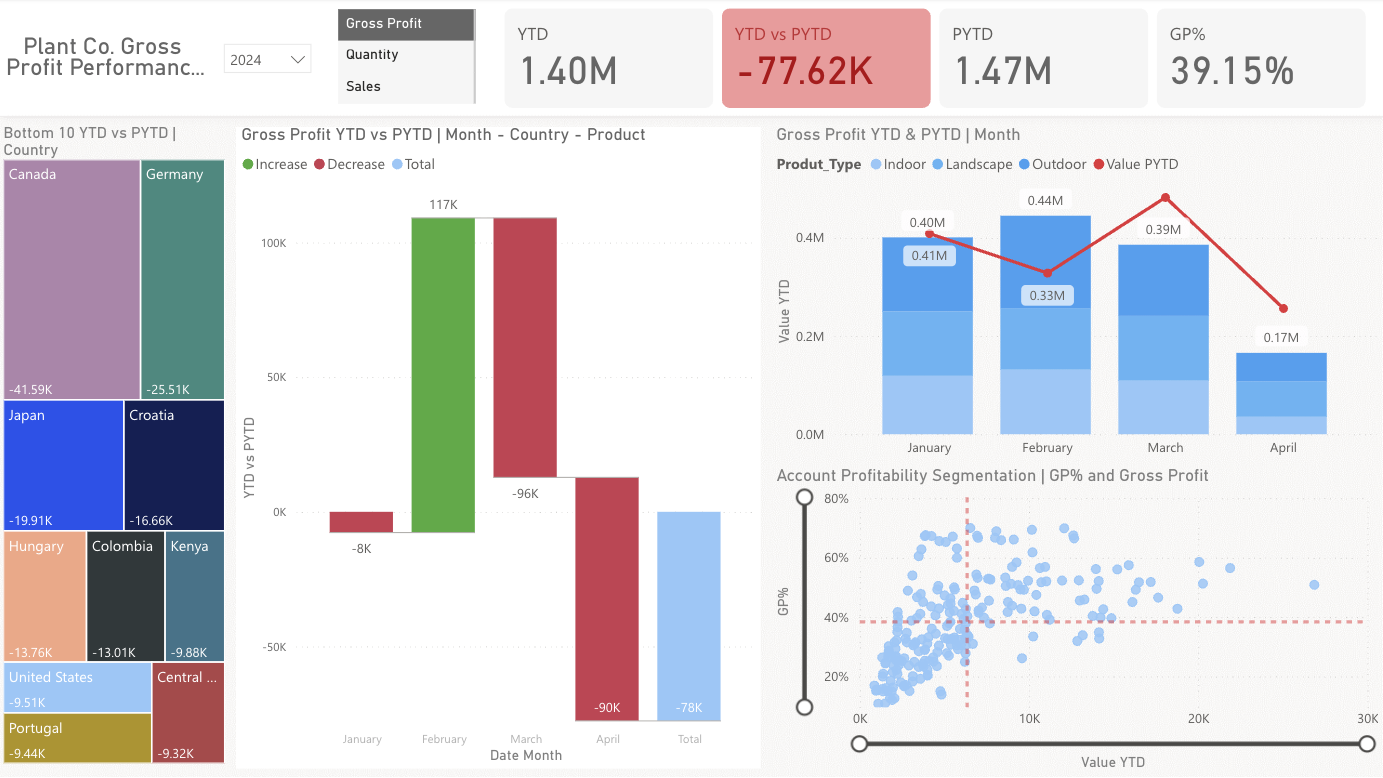

Layout of this report page (visuals, bound fields, positions):
{"tool":"powerbi","page":{"name":"Performance Report","canvas":[1280,720],"ordinal":0},"visuals":[{"type":"cardVisual","fields":{"Data":["_Measures.S_YTD","_Measures.YTD vs PYTD","_Measures.S_PYTD","_Measures.GP%"]},"box":[463,4.2,806.2,102.1],"z":0},{"type":"advancedSlicerVisual","fields":{"Values":["Slc_Values.Values"]},"box":[309.8,5.9,137.3,98],"z":1000},{"type":"slicer","fields":{"Values":["Dim_Date.Date.Variation.Date Hierarchy.Year"]},"box":[198.4,32.7,101.3,50.2],"z":2000},{"type":"treemap","title":"Bottom 10 YTD vs PYTD | Country","fields":{"Values":["_Measures.YTD vs PYTD"],"Group":["Dim_Account.country"]},"box":[0,118.7,214.6,594.4],"z":3000},{"type":"waterfallChart","fields":{"Y":["_Measures.YTD vs PYTD"],"Category":["Dim_Date.Date.Variation.Date Hierarchy.Month","Dim_Account.country","Dim_Product.Produt_Type","Dim_Product.Product_Name"]},"box":[220.3,119.6,485.2,593.5],"z":4000},{"type":"lineStackedColumnComboChart","fields":{"Y":["_Measures.S_YTD"],"Y2":["_Measures.S_PYTD"],"Category":["Dim_Date.Date.Variation.Date Hierarchy.Quarter","Dim_Date.Date.Variation.Date Hierarchy.Month"],"Series":["Dim_Product.Produt_Type"]},"box":[714.1,119.6,565.9,314.3],"z":5000},{"type":"scatterChart","fields":{"Y":["_Measures.GP%"],"X":["_Measures.S_YTD"],"Category":["Dim_Account.Account"]},"box":[714.1,433.9,565.9,285.8],"z":6000},{"type":"card","fields":{"Values":["_Measures._Report title"]},"box":[0,20.9,198.5,68.4],"z":7000}]}

Visuals, with their boxes in screenshot pixels (x1, y1, x2, y2), scaled from the page's 1280x720 canvas onto the 1383x778 screenshot:
cardVisual - _Measures.S_YTD x _Measures.YTD vs PYTD: {"x1": 500, "y1": 5, "x2": 1371, "y2": 115}
advancedSlicerVisual - Slc_Values.Values: {"x1": 335, "y1": 6, "x2": 483, "y2": 112}
slicer - Dim_Date.Date.Variation.Date Hierarchy.Year: {"x1": 214, "y1": 35, "x2": 324, "y2": 90}
"Bottom 10 YTD vs PYTD | Country" treemap: {"x1": 0, "y1": 128, "x2": 232, "y2": 771}
waterfallChart - _Measures.YTD vs PYTD x Dim_Date.Date.Variation.Date Hierarchy.Month: {"x1": 238, "y1": 129, "x2": 762, "y2": 771}
lineStackedColumnComboChart - _Measures.S_YTD x _Measures.S_PYTD: {"x1": 772, "y1": 129, "x2": 1382, "y2": 469}
scatterChart - _Measures.GP% x _Measures.S_YTD: {"x1": 772, "y1": 469, "x2": 1382, "y2": 777}
card - _Measures._Report title: {"x1": 0, "y1": 23, "x2": 214, "y2": 96}
